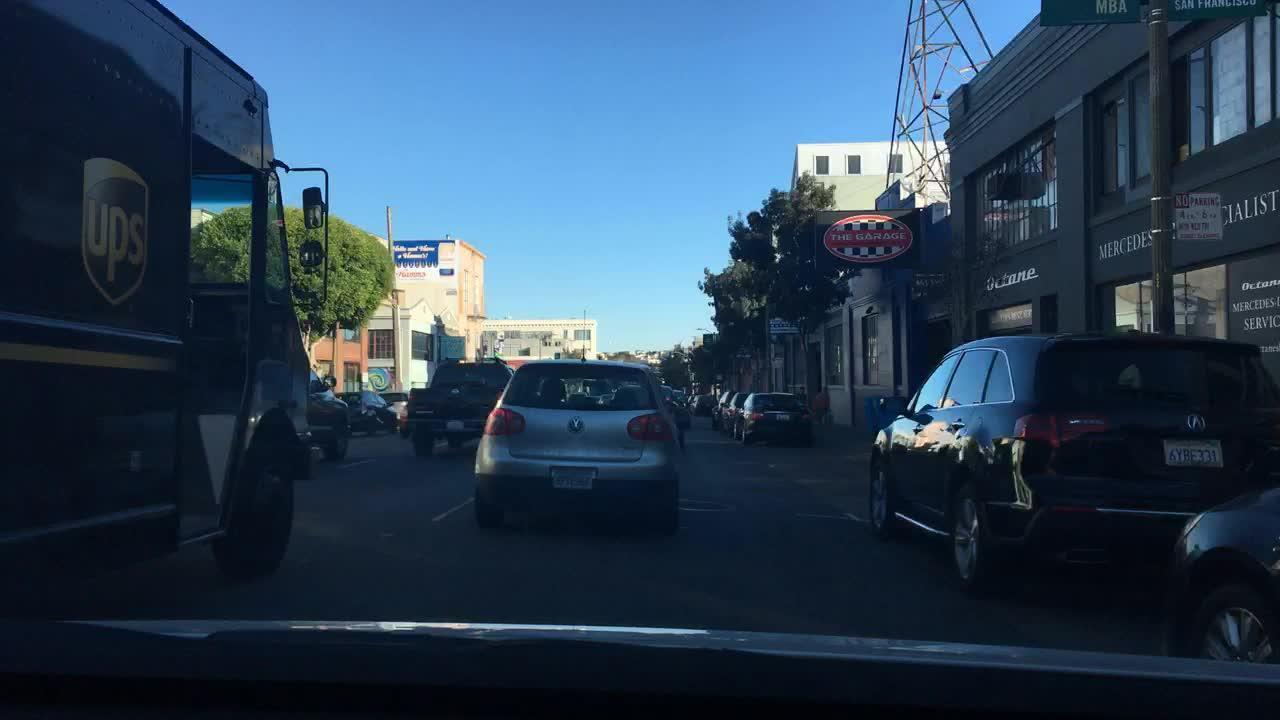acura: (1181, 408, 1209, 440)
